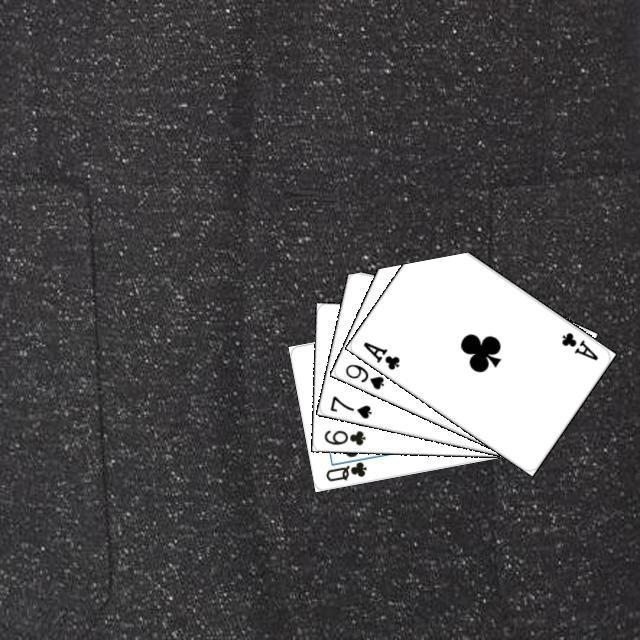6c: (319, 425, 367, 447)
7s: (325, 391, 373, 420)
9s: (340, 359, 386, 391)
Ac: (358, 336, 401, 372), (556, 327, 600, 362)
Qc: (321, 452, 371, 483)
